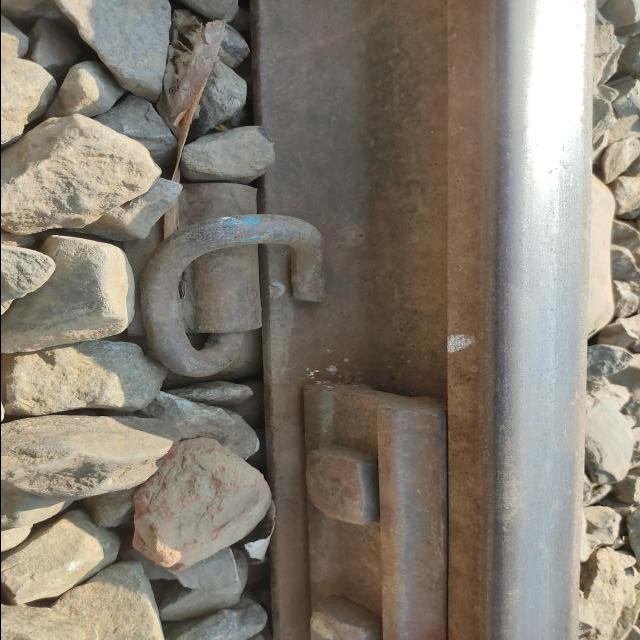broken_rail_medium: (544, 143, 571, 179)
